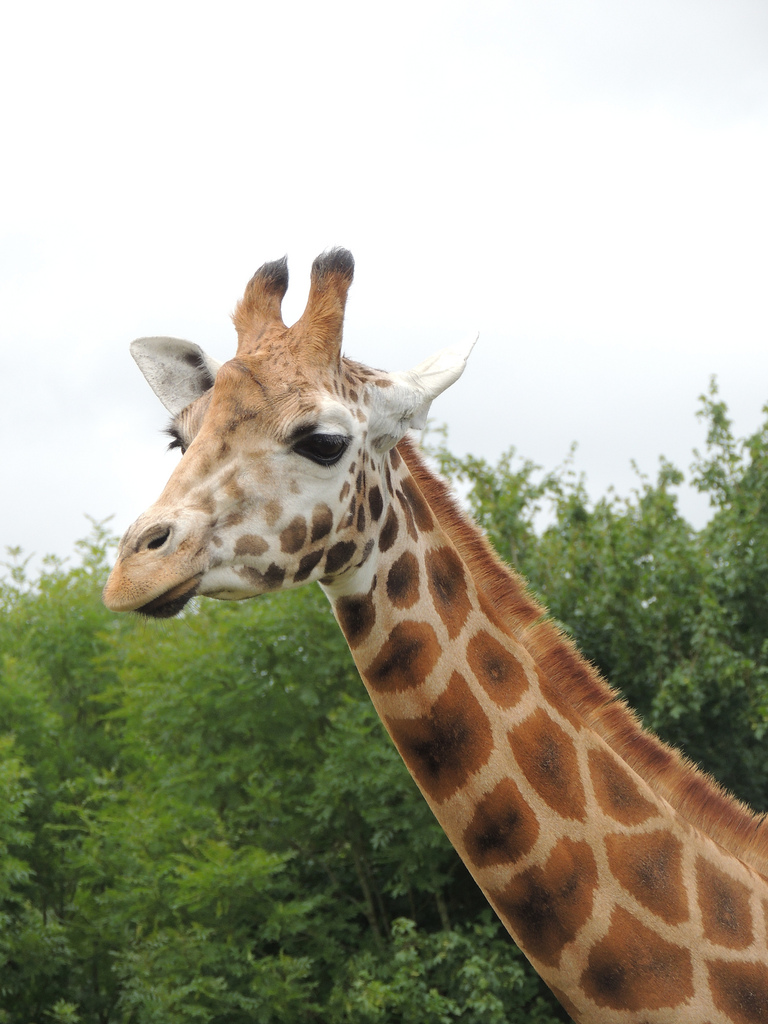giraffe: (92, 220, 748, 1001)
